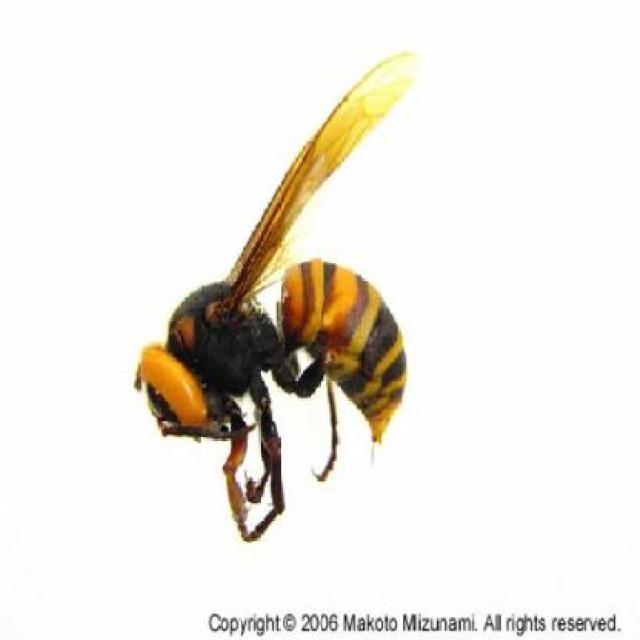Wasp: (122, 47, 413, 551)
